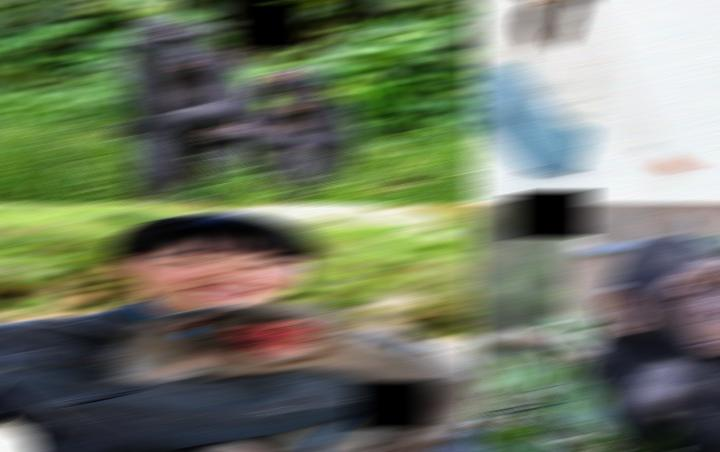Macaca fuscata: (108, 302, 480, 451)
chimpanzee: (588, 234, 720, 451), (118, 16, 250, 194), (245, 68, 363, 196)
human: (0, 214, 480, 451), (470, 1, 702, 190)
